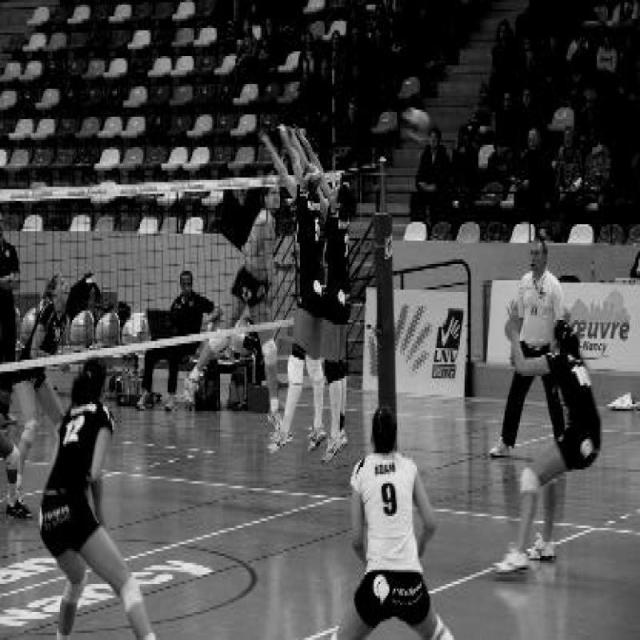volleyball: (397, 107, 431, 147)
